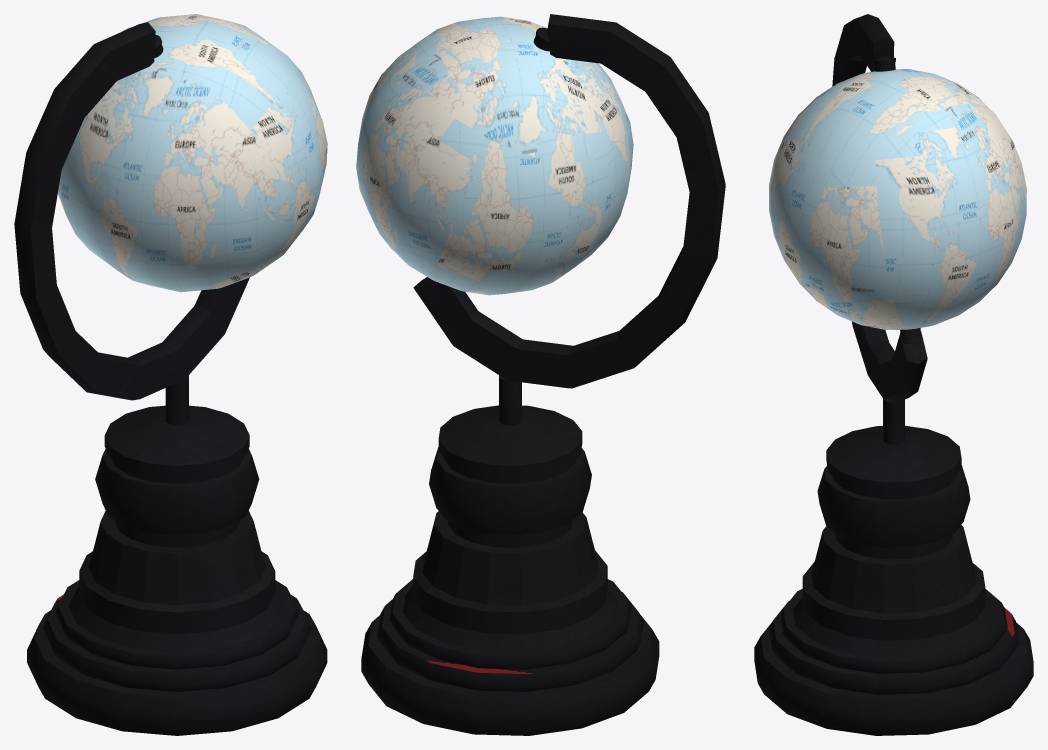
Rendered from antique_globe1.fbx.
The picture shows the model from 3 angles, left to right: view 1: azimuth 30°, elevation 25°; view 2: azimuth 150°, elevation 25°; view 3: azimuth 270°, elevation 25°; orthographic projection. The views are drawn at different scales.
Parts seen in each view (by area): view 1: pCylinder16, pSphere6, pCylinder15, pCylinder17; view 2: pCylinder16, pSphere6, pCylinder15, pCylinder17; view 3: pCylinder16, pSphere6, pCylinder15, pCylinder17.
Boxes of the visible parts, bbox=[...] form: pCylinder16: bbox=[27, 405, 327, 735]; pSphere6: bbox=[58, 14, 327, 292]; pCylinder15: bbox=[14, 22, 249, 400]; pCylinder17: bbox=[165, 375, 188, 425]; pCylinder16: bbox=[361, 405, 659, 735]; pSphere6: bbox=[356, 16, 633, 295]; pCylinder15: bbox=[413, 14, 725, 388]; pCylinder17: bbox=[499, 375, 521, 425]; pCylinder16: bbox=[754, 425, 1033, 735]; pSphere6: bbox=[769, 69, 1026, 329]; pCylinder15: bbox=[832, 14, 927, 402]; pCylinder17: bbox=[883, 399, 904, 444].
Bounding box in the file's own units: 46.72 × 92.95 × 37.66.
